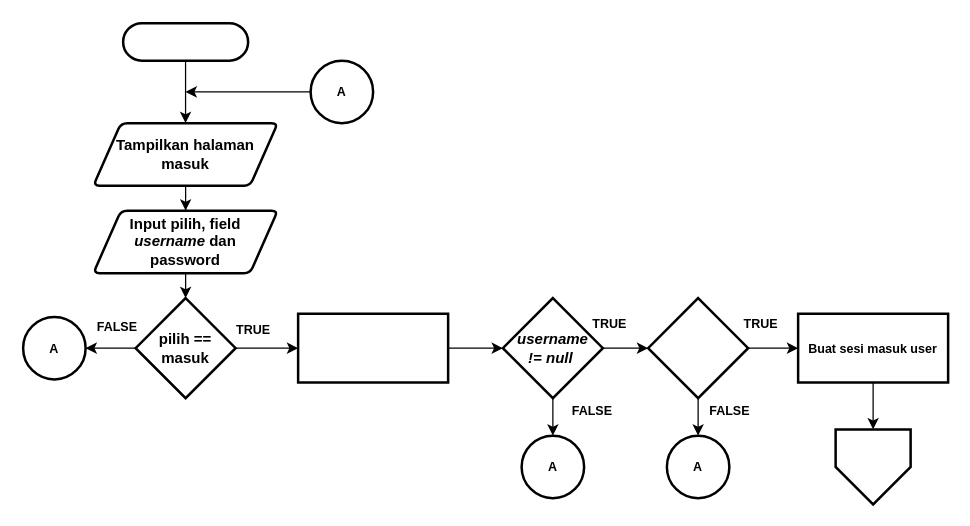
Some shapes in this 970 by 526 pixel diagram are drawn without their labels. Here are the shapes that lost their labels. From the top down, the centre of each, then its label:
At pixel 185 41: "START".
At pixel 372 347: "Cek record database".
At pixel 697 347: "kata sandi== input field kata sandi".
At pixel 872 466: "MA".
